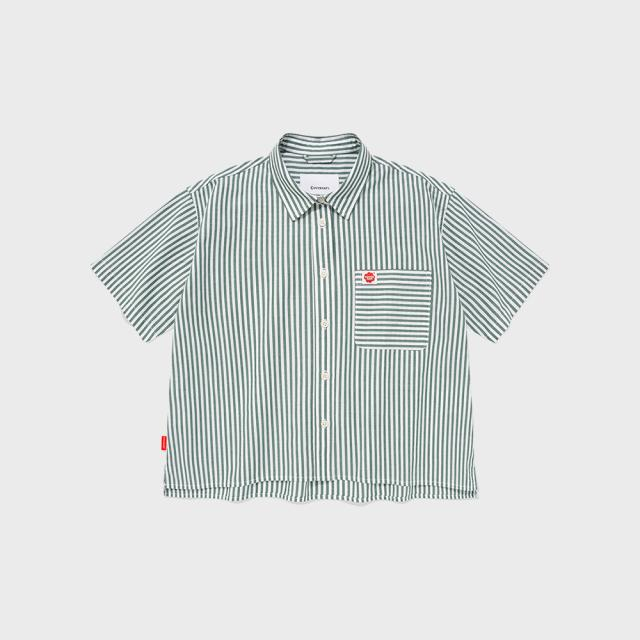Blouse_deep: (87, 122, 541, 501)
